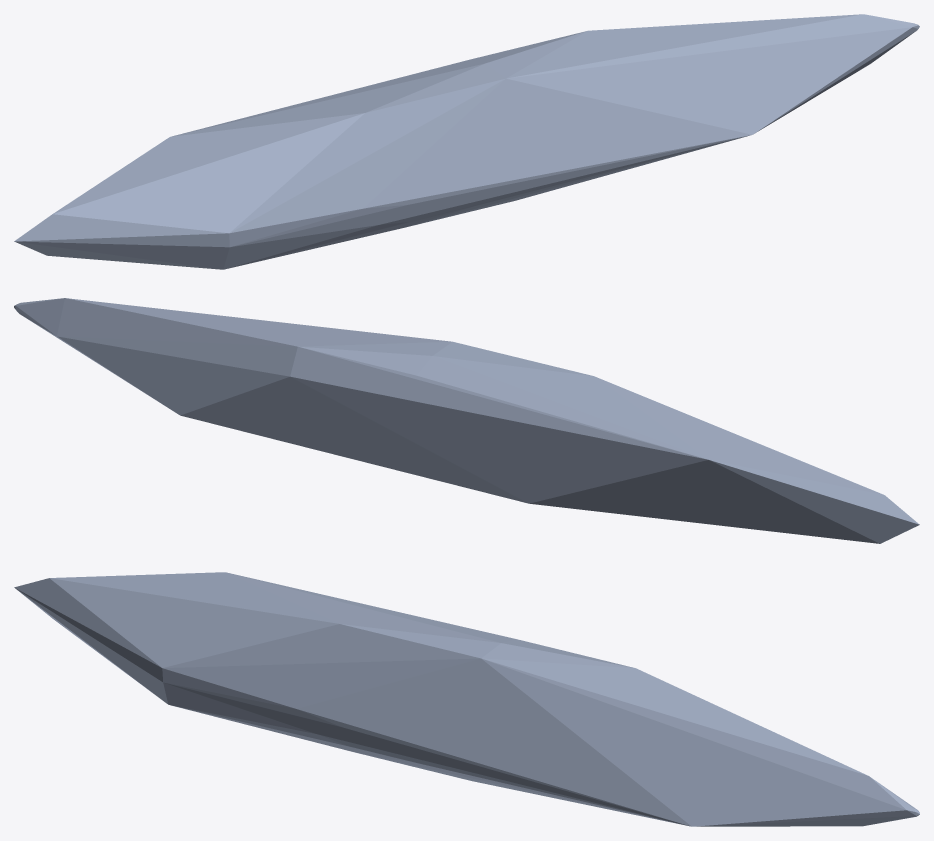
File: stationery_marker_alcohol_violet_a01.glb
3 views of the same model, one above another, from view 1: azimuth 30°, elevation 25°; view 2: azimuth 150°, elevation 25°; view 3: azimuth 330°, elevation 25° (orthographic).
Visible parts, largest first — view 1: geometry_0; view 2: geometry_0; view 3: geometry_0.
Part boxes in pixels (x1=…): geometry_0: x1=14, y1=14, x2=919, y2=269; geometry_0: x1=14, y1=298, x2=919, y2=543; geometry_0: x1=14, y1=572, x2=919, y2=826.
Size of the model in its own units: 0.4728 by 0.0579 by 0.0583.
